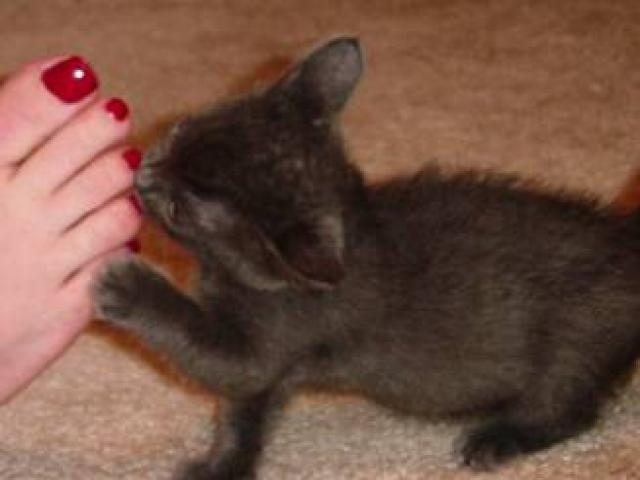cat: (93, 50, 633, 456)
